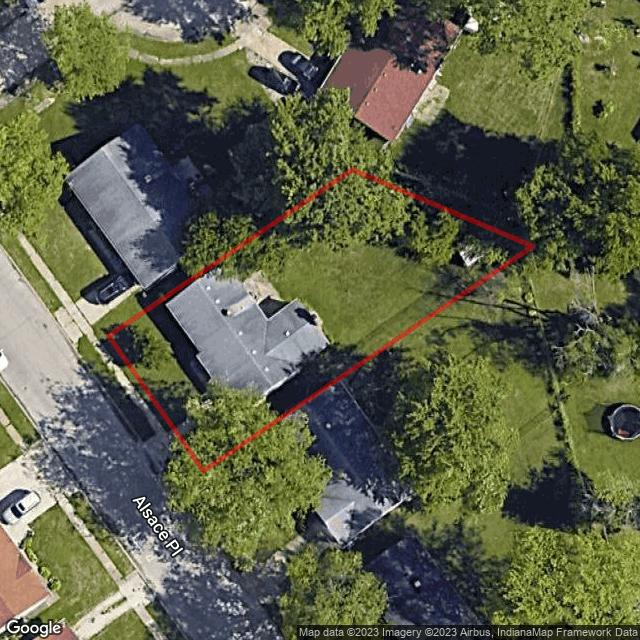Driveway: (0, 0, 59, 93), (176, 380, 236, 437)
Extra Driveway: (141, 429, 179, 470)
Extra Lawn: (80, 346, 157, 444), (99, 335, 172, 431), (161, 449, 193, 495), (174, 440, 204, 477)
Extra Sidewalk: (91, 341, 165, 434), (167, 443, 199, 482)
House: (166, 274, 328, 415)
Other: (242, 270, 286, 319), (459, 246, 480, 265)
